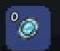mirror: (1, 0, 60, 51)
